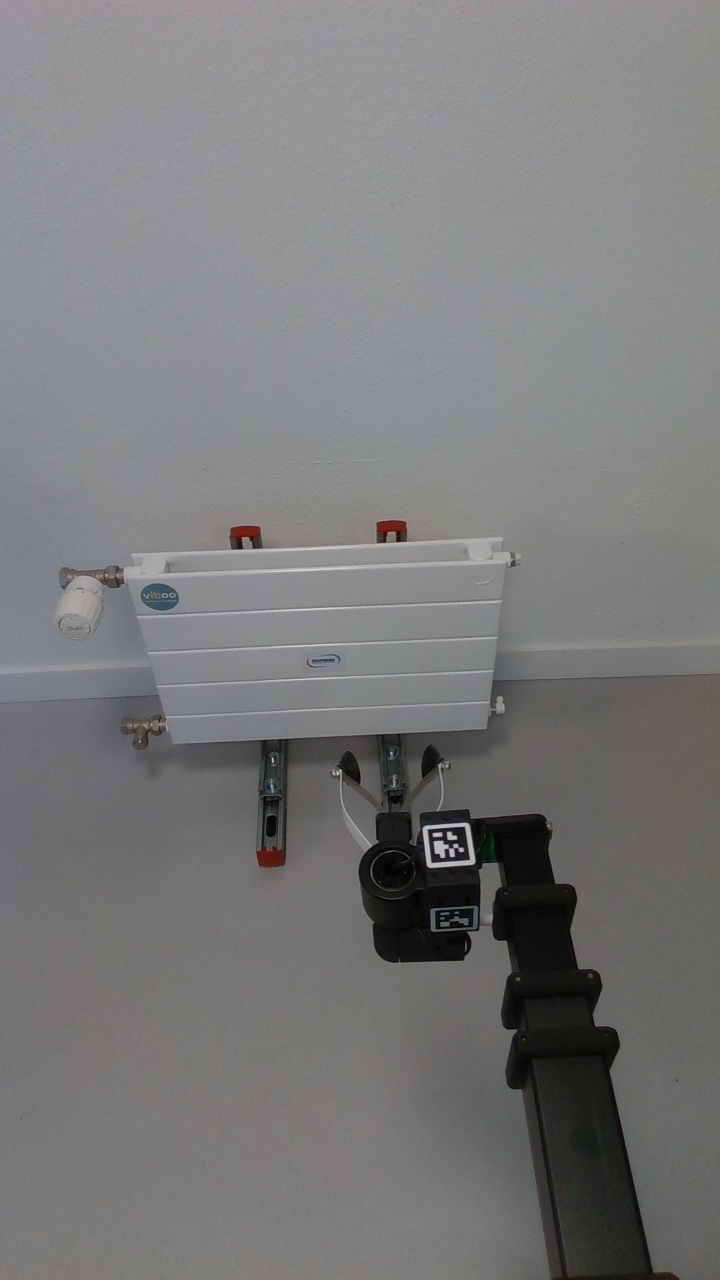Knob_Radiator: (38, 564, 124, 649)
Radiator: (115, 524, 523, 755)
